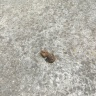Dog: (41, 50, 55, 63)
